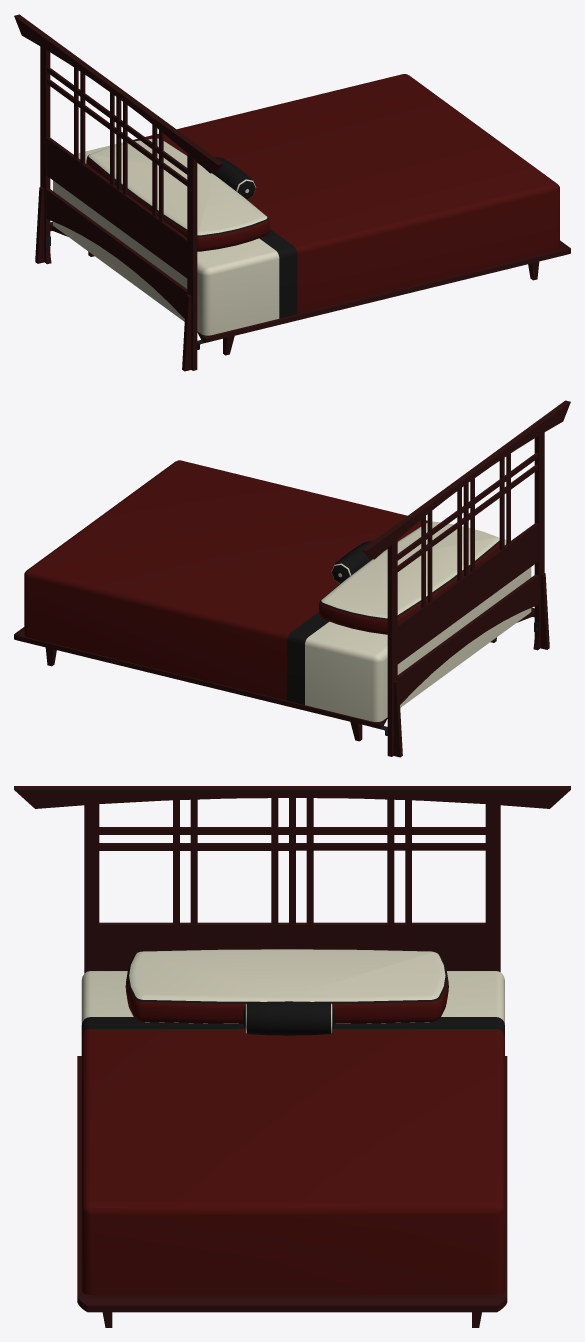
File: Bed_Japan.obj
3 renders of one model, top to bottom at view 1: azimuth 30°, elevation 25°; view 2: azimuth 150°, elevation 25°; view 3: azimuth 270°, elevation 25°, orthographic. The views are drawn at different scales.
Parts seen in each view (by area): view 1: Mesh1 Group1 Model, Mesh4 Group5 Group4 Model, Mesh2 Group2 Model, Mesh5 Group7 Group6 Group4 Model, Mesh3 Group3 Model; view 2: Mesh1 Group1 Model, Mesh4 Group5 Group4 Model, Mesh2 Group2 Model, Mesh5 Group7 Group6 Group4 Model, Mesh3 Group3 Model; view 3: Mesh1 Group1 Model, Mesh4 Group5 Group4 Model, Mesh2 Group2 Model, Mesh5 Group7 Group6 Group4 Model, Mesh3 Group3 Model.
Part boxes in pixels (<box>): Mesh1 Group1 Model: <box>53,74,559,335</box>; Mesh4 Group5 Group4 Model: <box>14,14,223,371</box>; Mesh2 Group2 Model: <box>86,138,269,251</box>; Mesh5 Group7 Group6 Group4 Model: <box>50,222,570,355</box>; Mesh3 Group3 Model: <box>212,157,256,199</box>; Mesh1 Group1 Model: <box>24,460,531,721</box>; Mesh4 Group5 Group4 Model: <box>361,400,570,757</box>; Mesh2 Group2 Model: <box>318,521,499,634</box>; Mesh5 Group7 Group6 Group4 Model: <box>14,607,534,741</box>; Mesh3 Group3 Model: <box>331,541,372,583</box>; Mesh1 Group1 Model: <box>81,971,504,1295</box>; Mesh4 Group5 Group4 Model: <box>14,786,570,973</box>; Mesh2 Group2 Model: <box>125,949,448,1023</box>; Mesh5 Group7 Group6 Group4 Model: <box>77,1056,507,1327</box>; Mesh3 Group3 Model: <box>243,1001,334,1035</box>.
Bounding box in the file's own units: 86.25 × 48 × 79.
